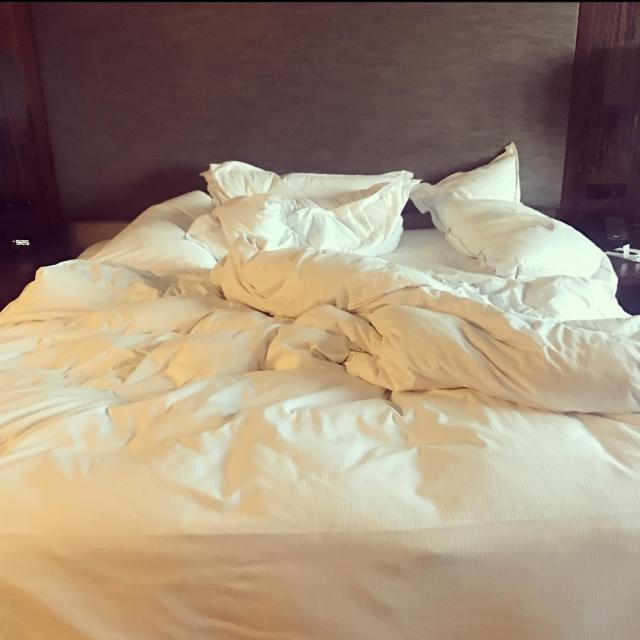bed: (15, 166, 640, 640)
